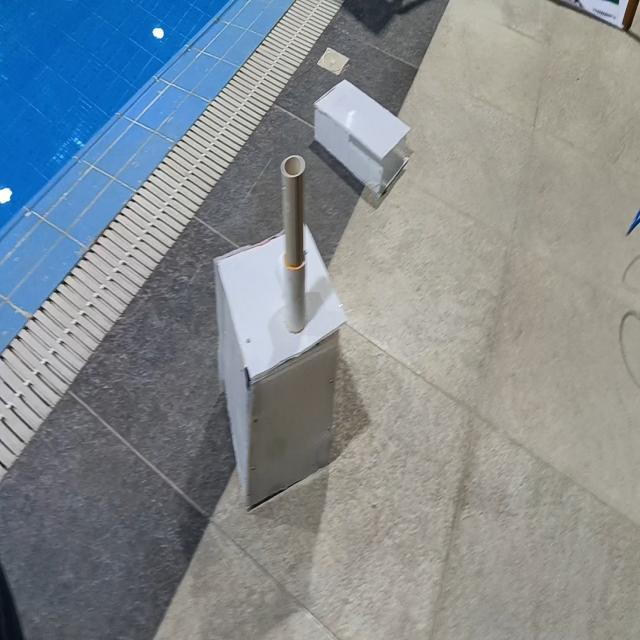Cube: (212, 220, 347, 510)
Cuboid: (313, 77, 411, 197)
